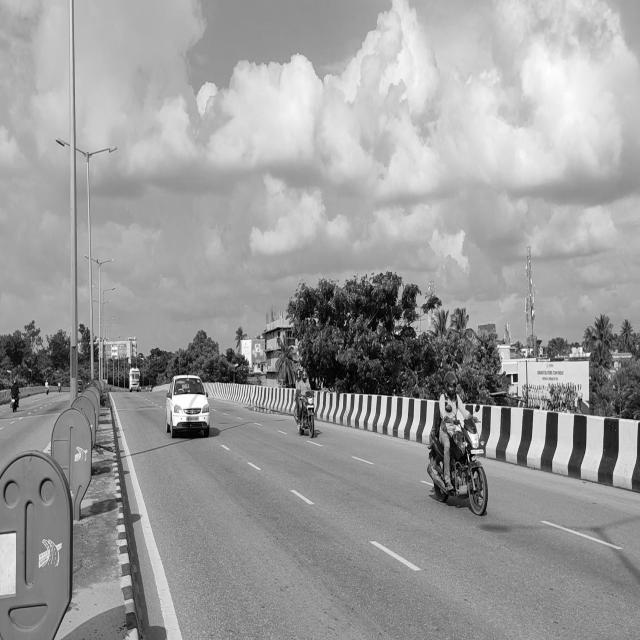bike: (423, 412, 490, 520), (288, 364, 322, 436)
car: (167, 372, 215, 448)
